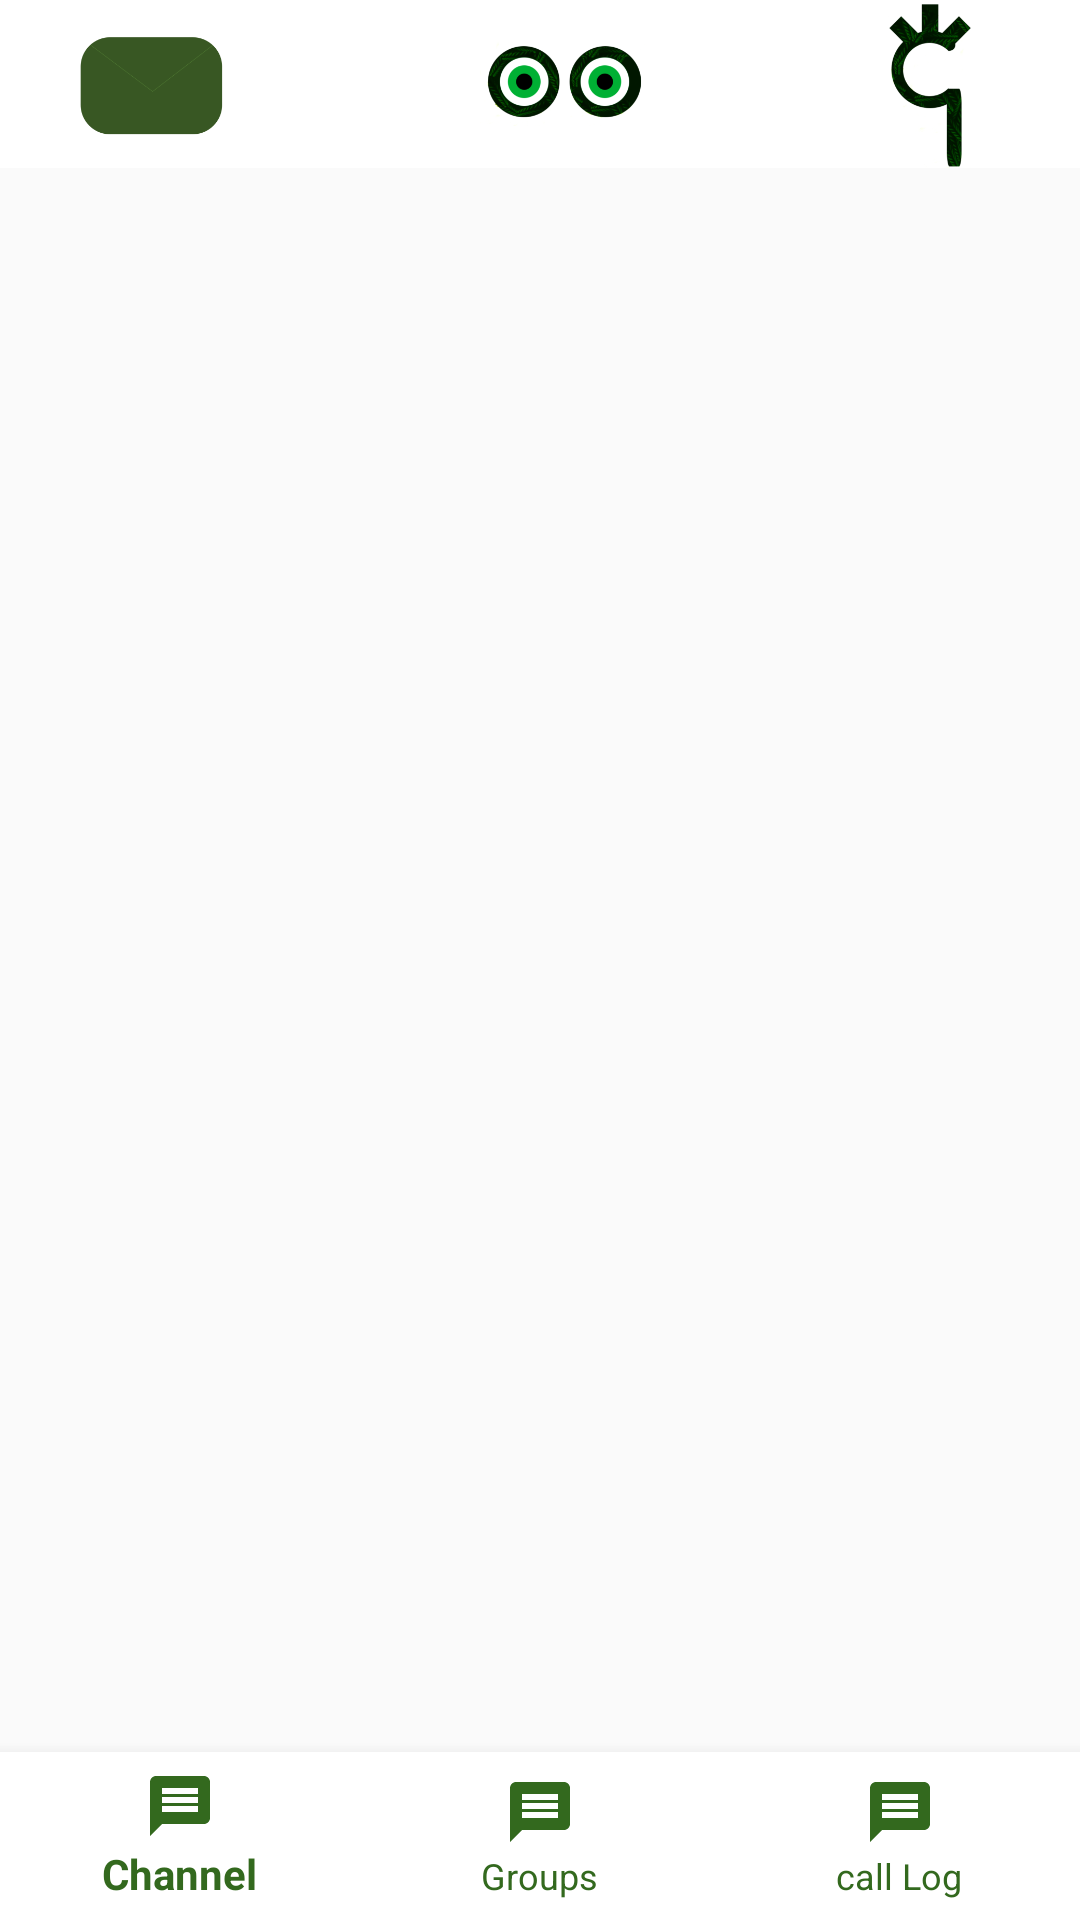

Icon click points for this 1080px×1920px phone screenshot, format (x=x, y=y):
lookaround: (x=564, y=82)
